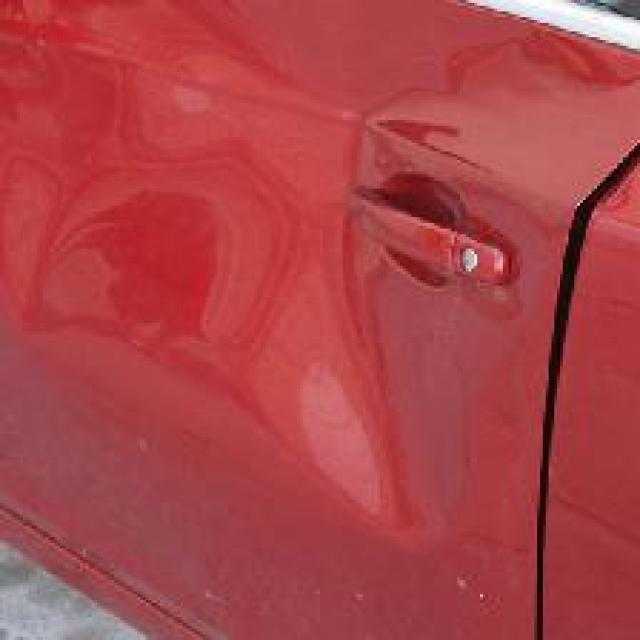damaged: (6, 37, 534, 560)
